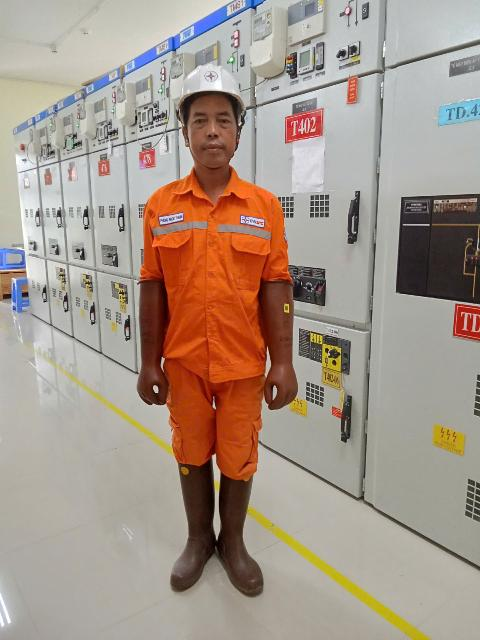gloves: (238, 265, 303, 423), (123, 256, 170, 426)
helmet: (177, 49, 245, 133)
shoes: (193, 443, 278, 604), (143, 438, 220, 588)
